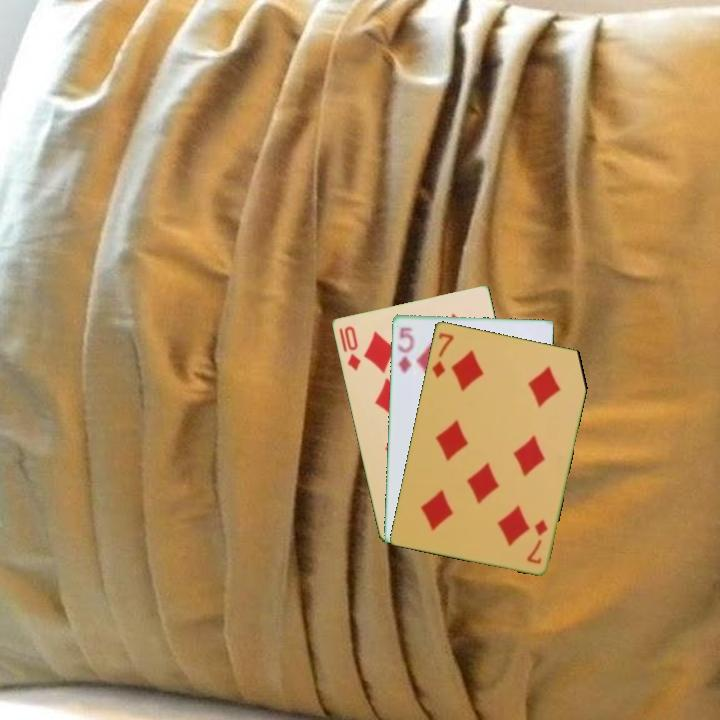10d: (335, 322, 363, 374)
5d: (394, 323, 416, 376)
7d: (428, 329, 457, 381), (523, 516, 551, 566)
